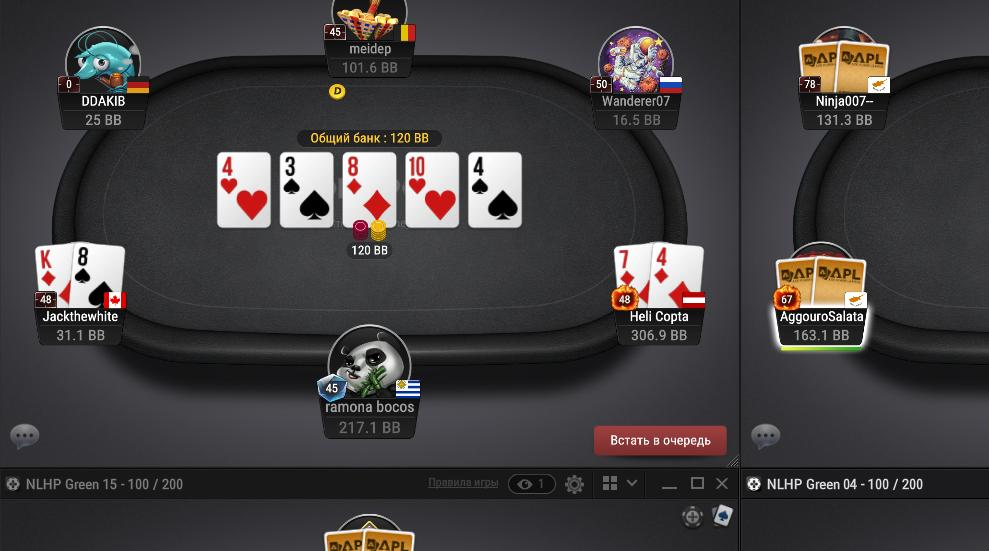10h: (406, 154, 460, 228)
3s: (280, 153, 333, 228)
4d: (649, 243, 703, 314)
4h: (219, 152, 270, 227)
4s: (468, 151, 524, 228)
7d: (614, 244, 652, 308)
8d: (345, 153, 395, 226)
8s: (72, 241, 126, 312)
Kd: (34, 244, 74, 310)
